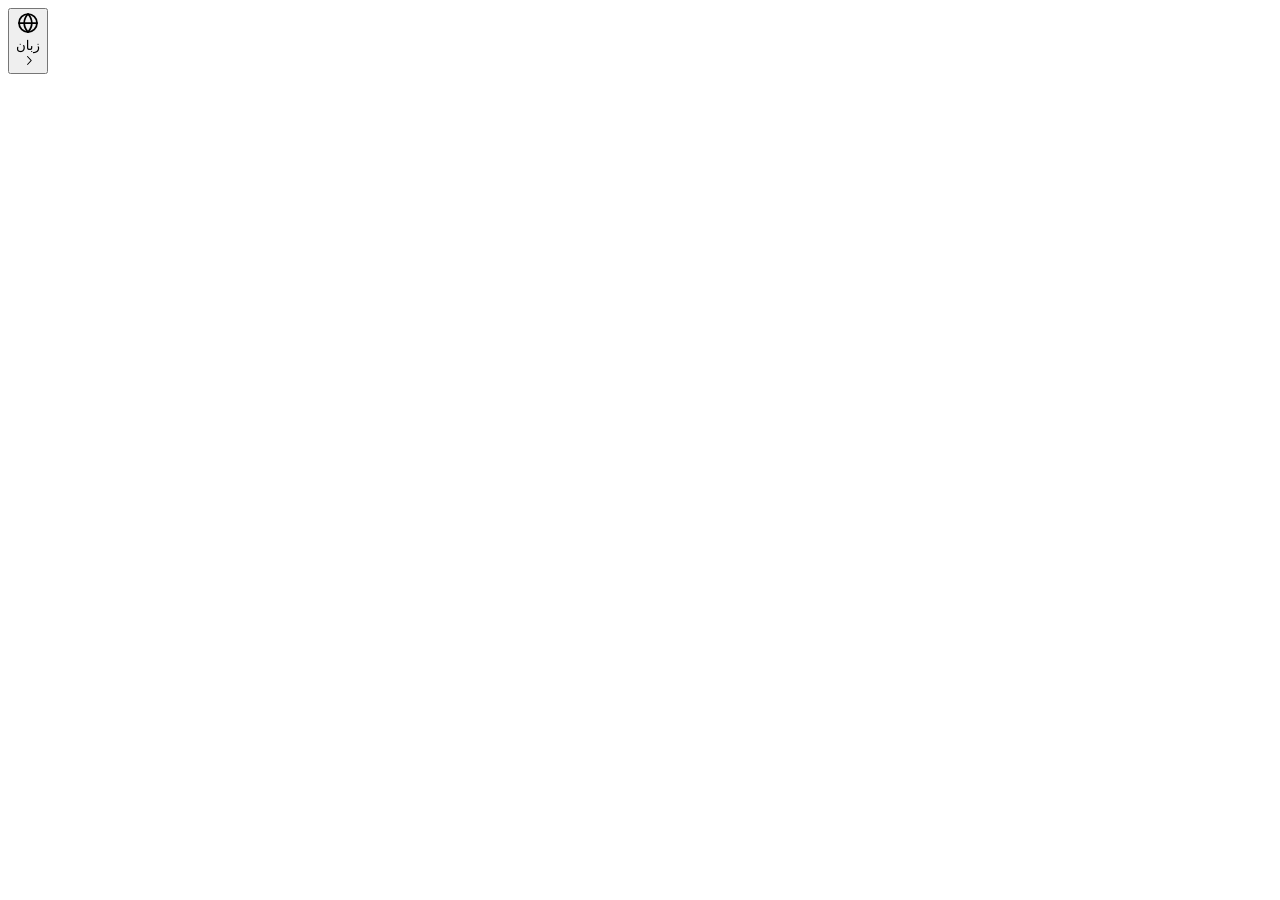
Test: انتخاب زبان › فقط فارسی و انگلیسی؛ انتخاب به میزبان خبر داده می‌شود
The image size is (1280, 900).
Later steps or results of the test are not shown.
Note: زیرمنو با رفتن نشانگر روی گزینه باز می‌شود (کلیک آن را باز/بسته می‌کند).
Hover over the button with test id "language-switcher-button" at (28, 41), box [8,8,48,74]
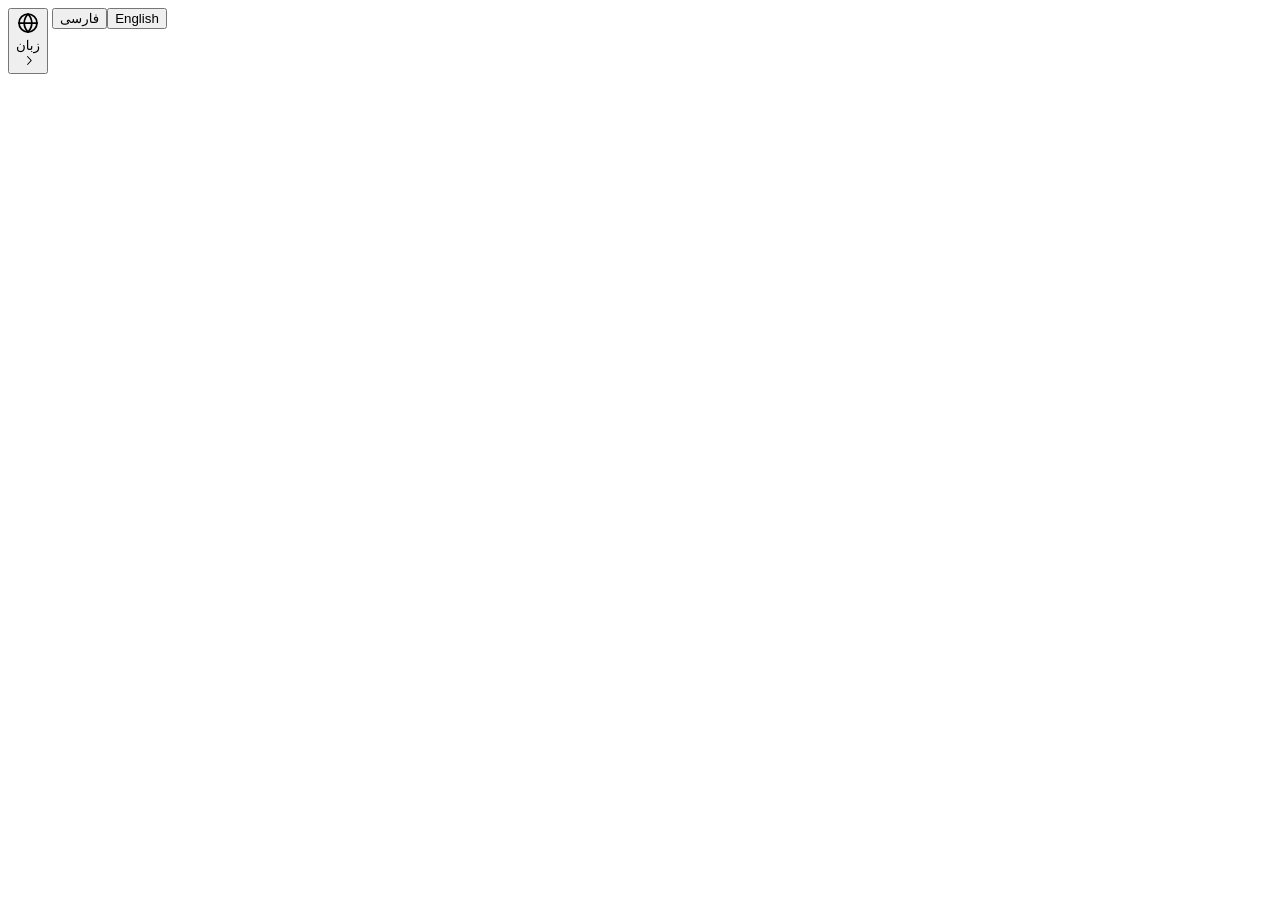
Expected: the button with test id "language-fa" reads "فارسی", [52,8,107,29]
